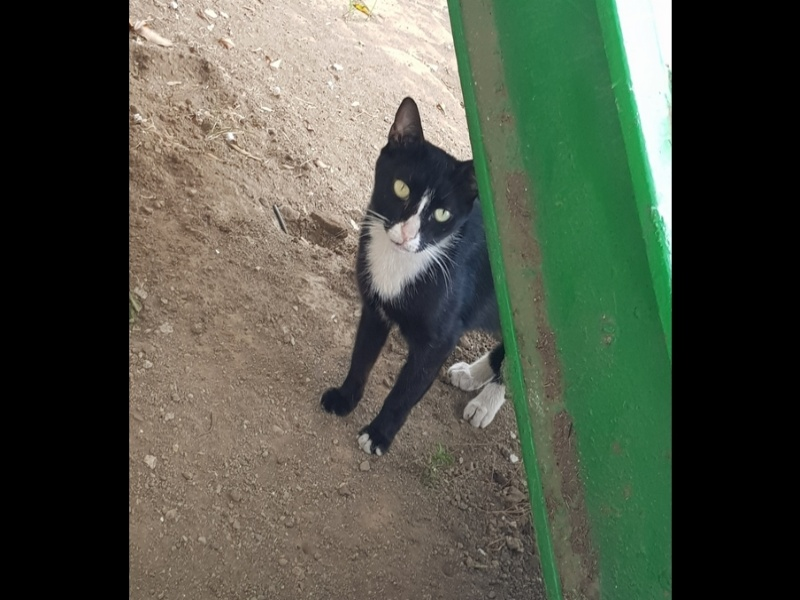cat: (320, 91, 516, 466)
